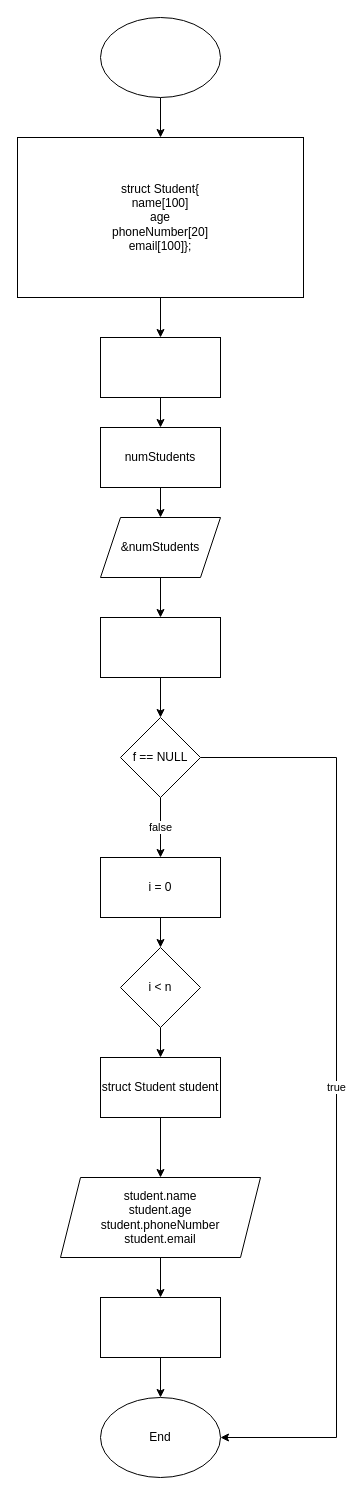
This 363x1495 diagram has some shape labels left out. Each missing label, with the box of its shape:
f = fopen("w"): (100, 616, 220, 678)
f, student.name, student.age, student.phoneNumber student.email: (100, 1296, 220, 1358)
FILE *f: (100, 336, 220, 398)
Start: (100, 16, 220, 98)
